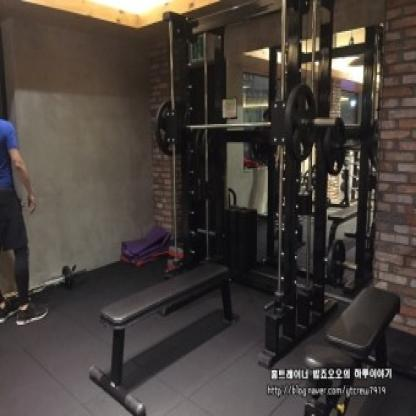smith machine: (157, 0, 338, 368)
